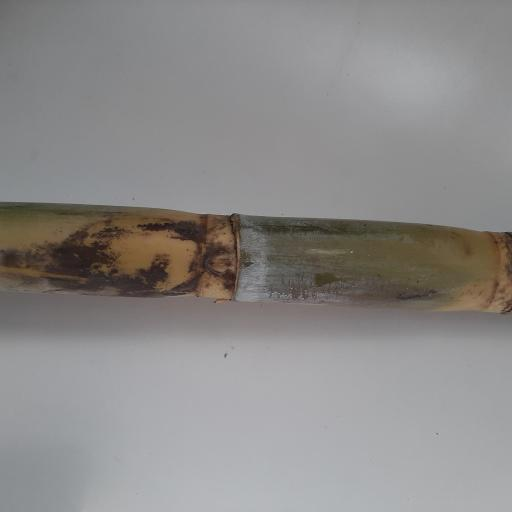Bud: (203, 246, 236, 277)
